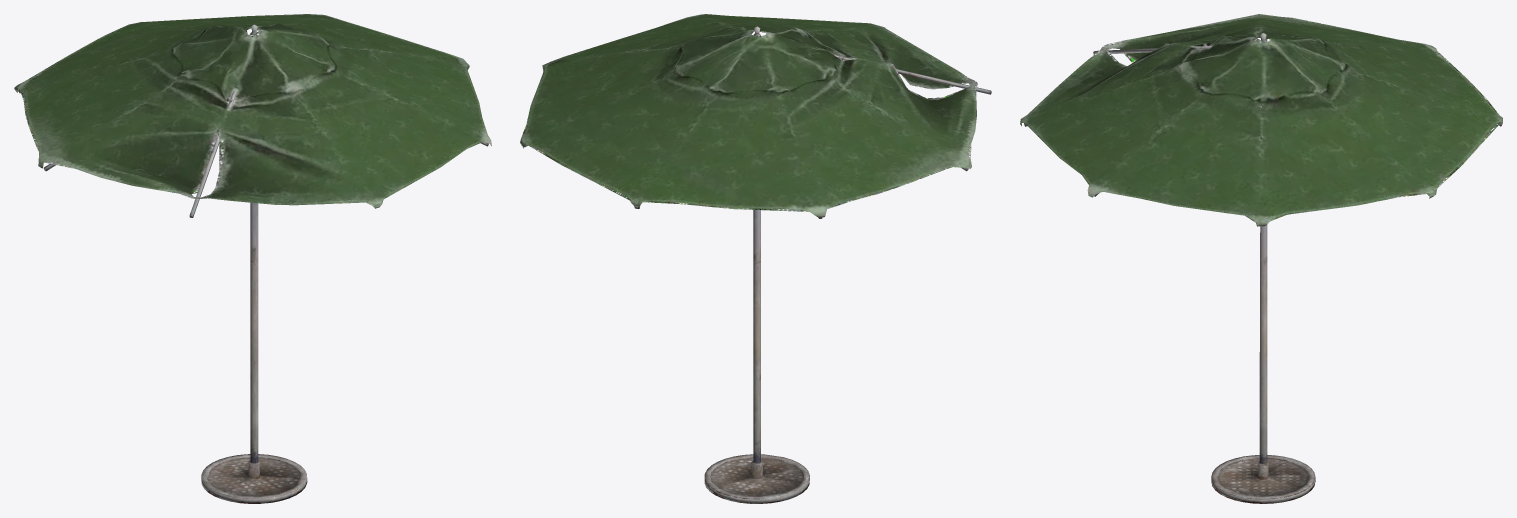
Rendered from beach_parasol_c.glb.
3 views of the same model, side by side, from view 1: azimuth 30°, elevation 25°; view 2: azimuth 150°, elevation 25°; view 3: azimuth 270°, elevation 25° (orthographic).
Parts seen in each view (by area): view 1: beach_parasol_LOD0; view 2: beach_parasol_LOD0; view 3: beach_parasol_LOD0.
Part boxes in pixels (x1=…): beach_parasol_LOD0: x1=14, y1=14, x2=491, y2=503; beach_parasol_LOD0: x1=520, y1=14, x2=991, y2=503; beach_parasol_LOD0: x1=1020, y1=14, x2=1502, y2=503.
Size of the model in its own units: 2.57 by 2.63 by 2.56.
Materials: 2 (2 with a texture image).
